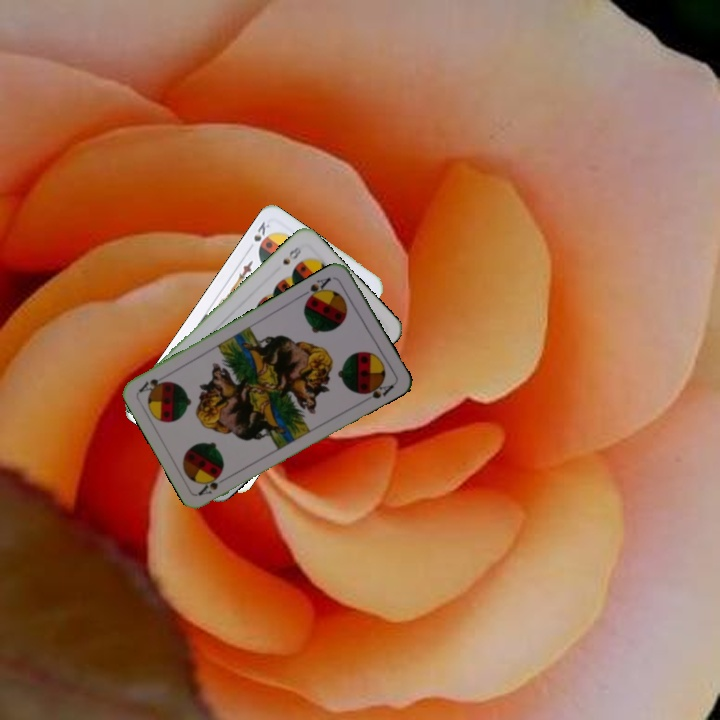S8: (279, 242, 304, 267)
SA: (298, 273, 334, 304), (195, 471, 232, 498)
SK: (250, 217, 272, 244)
